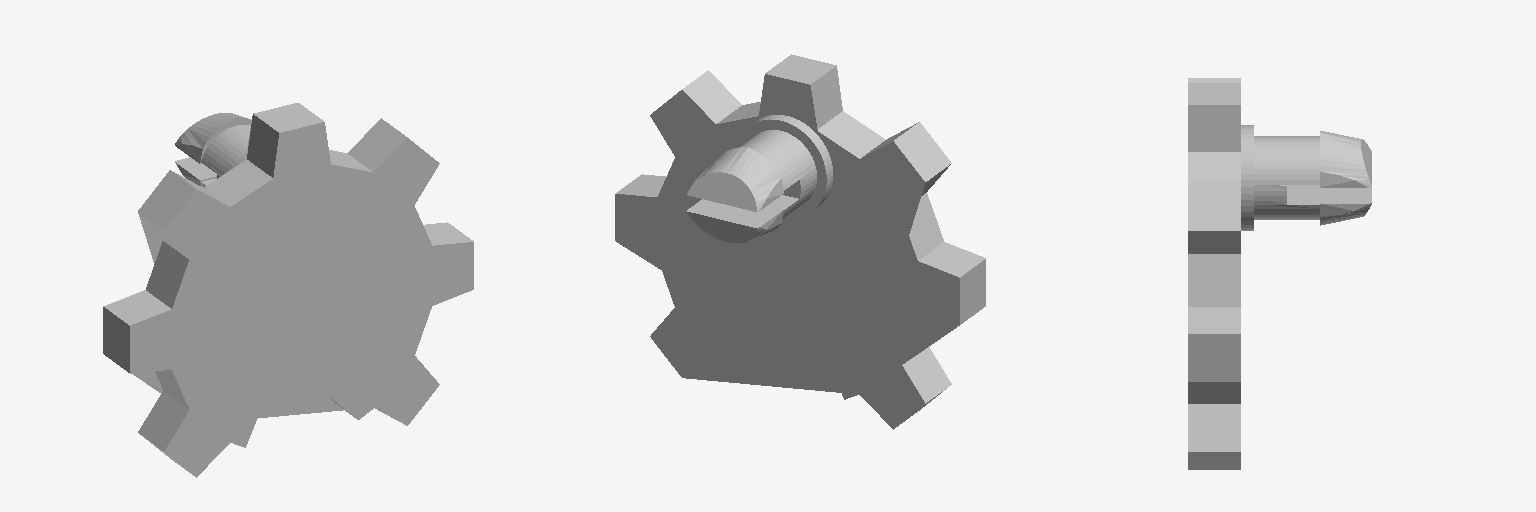
Rendered from AC_OSHW_v001.obj.
3 views of the same model, side by side, from view 1: azimuth 30°, elevation 25°; view 2: azimuth 150°, elevation 25°; view 3: azimuth 270°, elevation 25° (orthographic).
Visible parts, largest first — view 1: Mesh1 Group2 Group1 Model, Mesh2 Group4 Group3 Group1 Model, Mesh4 Group5 Group3 Group1 Model, Mesh3 Group5 Group3 Group1 Model; view 2: Mesh1 Group2 Group1 Model, Mesh4 Group5 Group3 Group1 Model, Mesh2 Group4 Group3 Group1 Model, Mesh3 Group5 Group3 Group1 Model, Mesh5 Group6 Group1 Model; view 3: Mesh1 Group2 Group1 Model, Mesh2 Group4 Group3 Group1 Model, Mesh4 Group5 Group3 Group1 Model, Mesh3 Group5 Group3 Group1 Model, Mesh5 Group6 Group1 Model.
Boxes of the visible parts, x1,y1,x2,y2 form: Mesh1 Group2 Group1 Model: [103, 103, 473, 477]; Mesh2 Group4 Group3 Group1 Model: [201, 125, 250, 187]; Mesh4 Group5 Group3 Group1 Model: [175, 113, 251, 163]; Mesh3 Group5 Group3 Group1 Model: [175, 157, 216, 186]; Mesh1 Group2 Group1 Model: [615, 54, 985, 429]; Mesh4 Group5 Group3 Group1 Model: [687, 147, 783, 211]; Mesh2 Group4 Group3 Group1 Model: [741, 130, 816, 218]; Mesh3 Group5 Group3 Group1 Model: [687, 199, 783, 243]; Mesh5 Group6 Group1 Model: [737, 115, 832, 217]; Mesh1 Group2 Group1 Model: [1188, 78, 1240, 469]; Mesh2 Group4 Group3 Group1 Model: [1254, 136, 1319, 219]; Mesh4 Group5 Group3 Group1 Model: [1320, 131, 1371, 187]; Mesh3 Group5 Group3 Group1 Model: [1320, 187, 1371, 225]; Mesh5 Group6 Group1 Model: [1241, 125, 1253, 230].
Size of the model in its own units: 15.08 by 13.58 by 6.99.